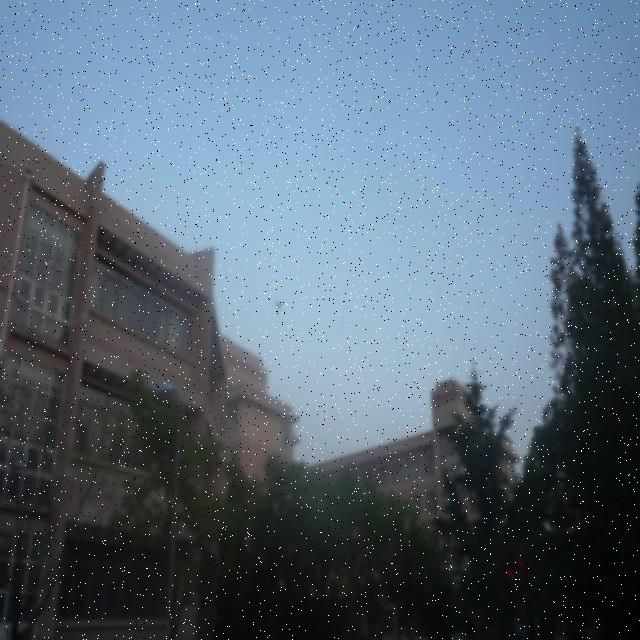UAV: (274, 298, 286, 310)
